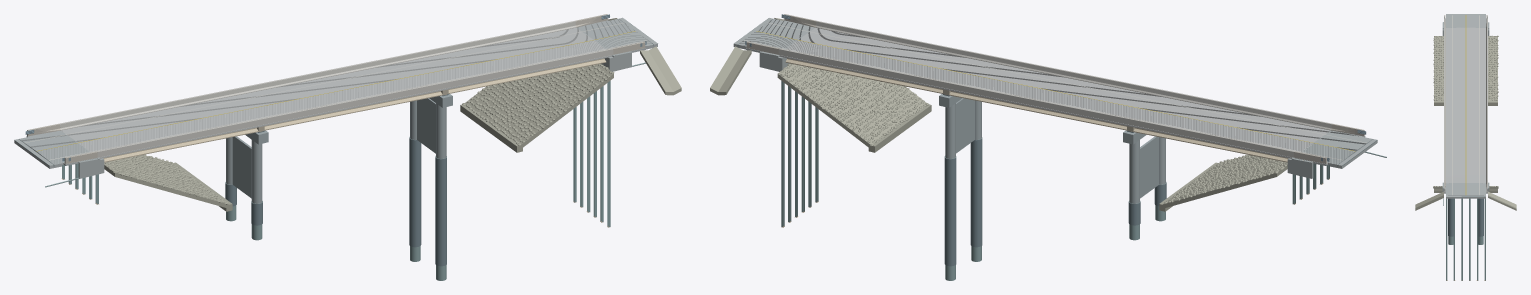
3 renders of one model, left to right at view 1: azimuth 30°, elevation 25°; view 2: azimuth 150°, elevation 25°; view 3: azimuth 270°, elevation 25°, orthographic. The views are drawn at different scales.
Parts seen in each view (by area): view 1: deck, riprap_north, rail_L, rail_R, riprap_north_stones, riprap_south_stones, b3_casing_L, approach_south, b3_casing_R, approach_north, riprap_south, b2_wall (+16 smaller); view 2: deck, riprap_north, rail_R, riprap_north_stones, rail_L, riprap_south_stones, b3_casing_L, b3_casing_R, approach_south, approach_north, riprap_south, b2_wall (+15 smaller); view 3: deck, riprap_south, riprap_south_stones, approach_south, approach_north, marking_center, rail_L, rail_R, b3_casing_L, b3_casing_R, riprap_turnout_R, riprap_turnout_L (+11 smaller).
Boxes of the visible parts, x1,y1,x2,y2 form: deck: (61, 28, 612, 158); riprap_north: (465, 63, 613, 149); rail_L: (59, 21, 576, 130); rail_R: (97, 48, 613, 157); riprap_north_stones: (462, 64, 614, 145); riprap_south_stones: (104, 154, 227, 204); b3_casing_L: (409, 137, 421, 247); approach_south: (19, 130, 90, 166); b3_casing_R: (435, 156, 446, 266); approach_north: (576, 19, 653, 49); riprap_south: (104, 155, 229, 208); b2_wall: (232, 136, 251, 198); deck: (779, 27, 1330, 158); riprap_north: (777, 64, 926, 147); rail_R: (815, 21, 1331, 130); riprap_north_stones: (778, 63, 928, 146); rail_L: (778, 48, 1294, 157); riprap_south_stones: (1164, 154, 1287, 203); b3_casing_L: (944, 156, 956, 266); b3_casing_R: (970, 138, 982, 247); approach_south: (1302, 131, 1372, 166); approach_north: (738, 19, 814, 49); riprap_south: (1162, 155, 1287, 208); b2_wall: (1140, 136, 1158, 198); deck: (1444, 27, 1487, 183); riprap_south: (1434, 36, 1497, 101); riprap_south_stones: (1433, 35, 1498, 100); approach_south: (1446, 15, 1485, 27); approach_north: (1446, 183, 1485, 195); marking_center: (1465, 15, 1466, 194); rail_L: (1486, 24, 1487, 182); rail_R: (1444, 24, 1445, 182); b3_casing_L: (1478, 198, 1483, 236); b3_casing_R: (1448, 198, 1453, 236); riprap_turnout_R: (1415, 191, 1443, 210); riprap_turnout_L: (1488, 191, 1516, 210).
Size of the model in its own units: 92.05 by 31.08 by 23.16.
